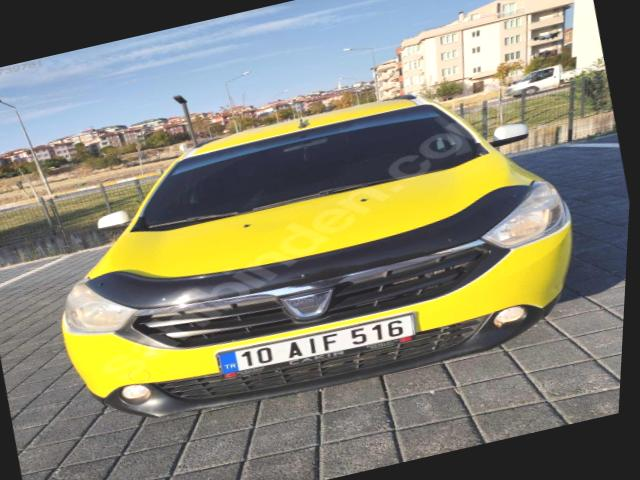plaka: (218, 313, 415, 373)
